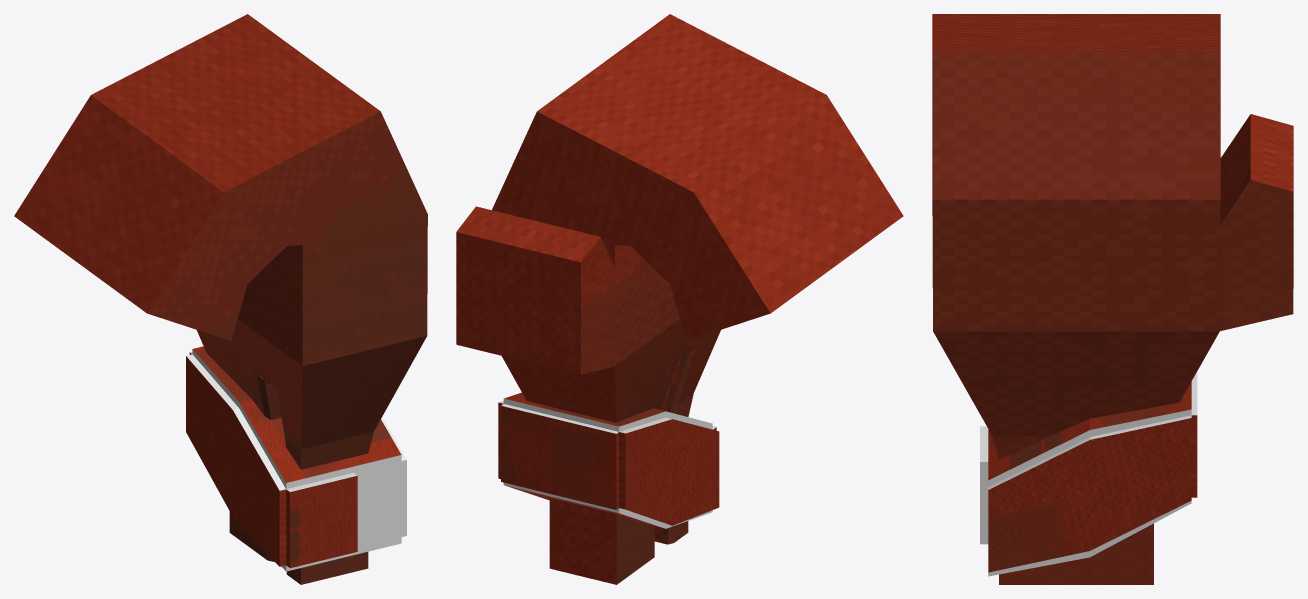
Rendered from Box_Glove.fbx.
3 renders of one model, left to right at view 1: azimuth 30°, elevation 25°; view 2: azimuth 150°, elevation 25°; view 3: azimuth 270°, elevation 25°, orthographic. The views are drawn at different scales.
Parts seen in each view (by area): view 1: Cube.019; view 2: Cube.019; view 3: Cube.019.
Boxes of the visible parts, bbox=[...] form: Cube.019: bbox=[14, 14, 427, 584]; Cube.019: bbox=[456, 14, 903, 584]; Cube.019: bbox=[932, 14, 1293, 584].
Bounding box in the file's own units: 0.1024 × 0.1657 × 0.1035.
3 materials, 2 textured.
